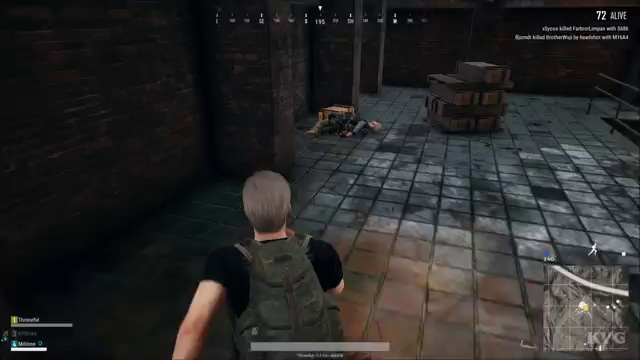Player: (163, 159, 392, 327)
